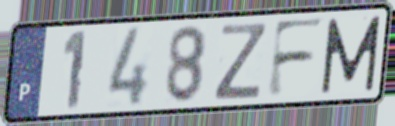1: (60, 27, 89, 113)
4: (105, 25, 151, 110)
8: (164, 22, 209, 106)
F: (264, 16, 328, 101)
M: (319, 13, 384, 97)
Z: (211, 21, 270, 102)
